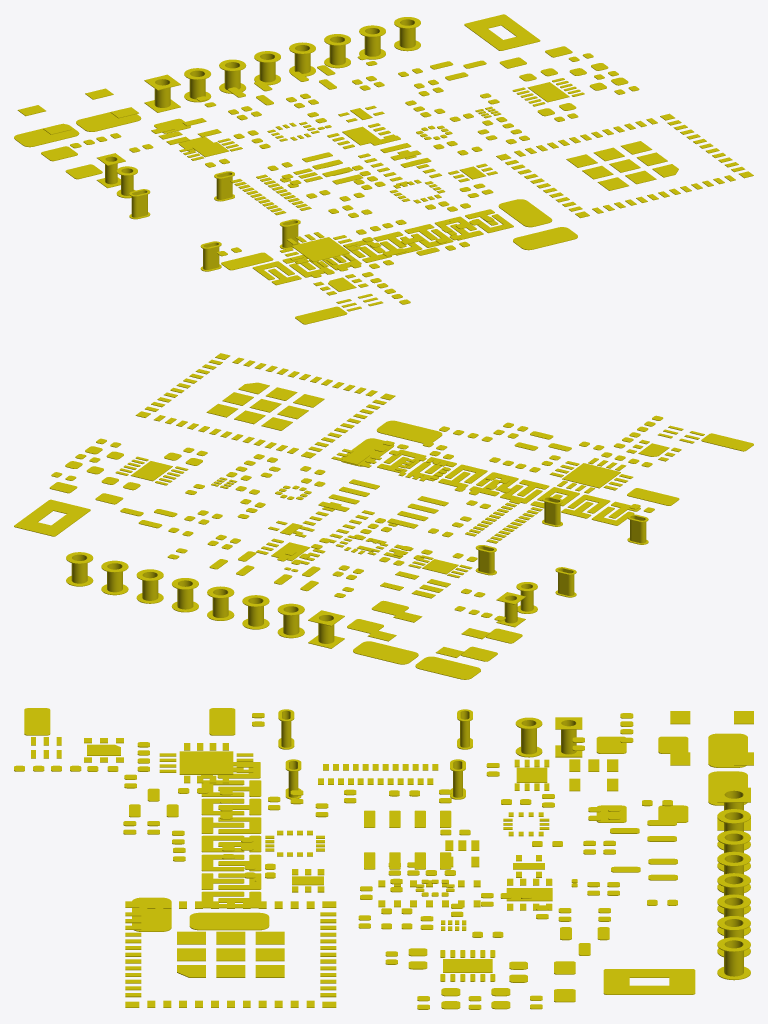
The model's file is Smarter Watch Stuff_Pads.glb.
3 views of the same model, one above another, from view 1: azimuth 30°, elevation 25°; view 2: azimuth 150°, elevation 25°; view 3: azimuth 270°, elevation 25° (orthographic). The views are drawn at different scales.
Parts seen in each view (by area): view 1: =>[0:1:1:2]; view 2: =>[0:1:1:2]; view 3: =>[0:1:1:2].
Part boxes in pixels (x1,y1,x2,y2): =>[0:1:1:2]: (14,14,753,324); =>[0:1:1:2]: (14,353,753,679); =>[0:1:1:2]: (14,708,753,1009).
Bounding box in the file's own units: 0.0361 × 0.00159 × 0.0372.
